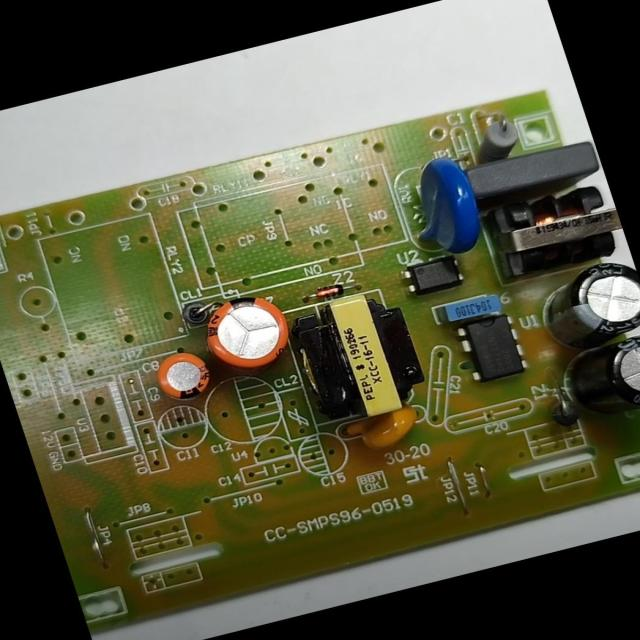Cap1: (192, 281, 301, 377)
Cap2: (148, 345, 218, 405)
Cap3: (534, 255, 640, 351)
Cap4: (558, 328, 639, 424)
MOSFET: (450, 308, 534, 386)
Mov: (396, 149, 492, 261)
Resistor: (464, 113, 528, 164)
Transformer: (282, 278, 437, 430), (475, 170, 628, 279)
